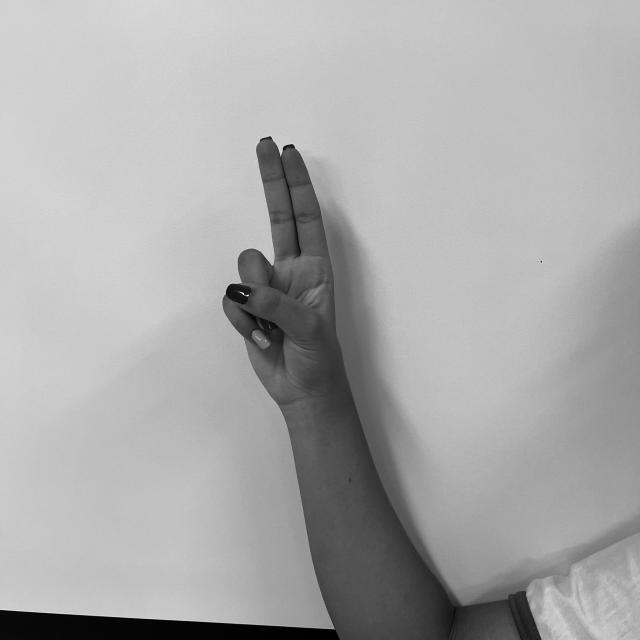Letra U: (217, 135, 351, 402)
